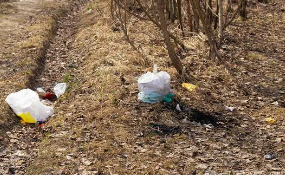garbage: (125, 69, 177, 105), (1, 93, 58, 125), (32, 79, 65, 105), (172, 80, 205, 92), (258, 118, 278, 124)
